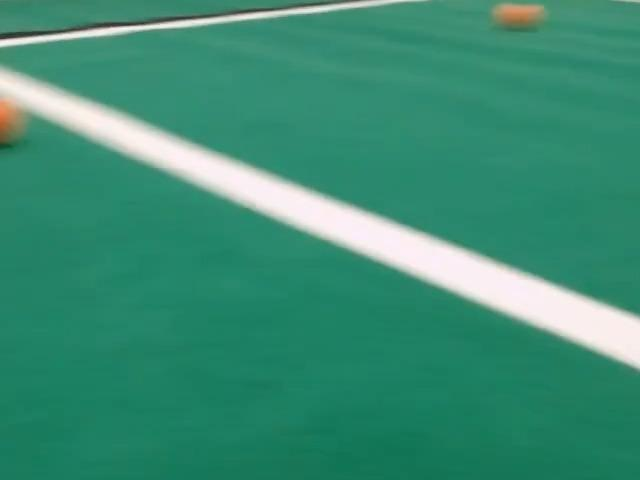Ball: (492, 3, 545, 29), (0, 99, 24, 145)
